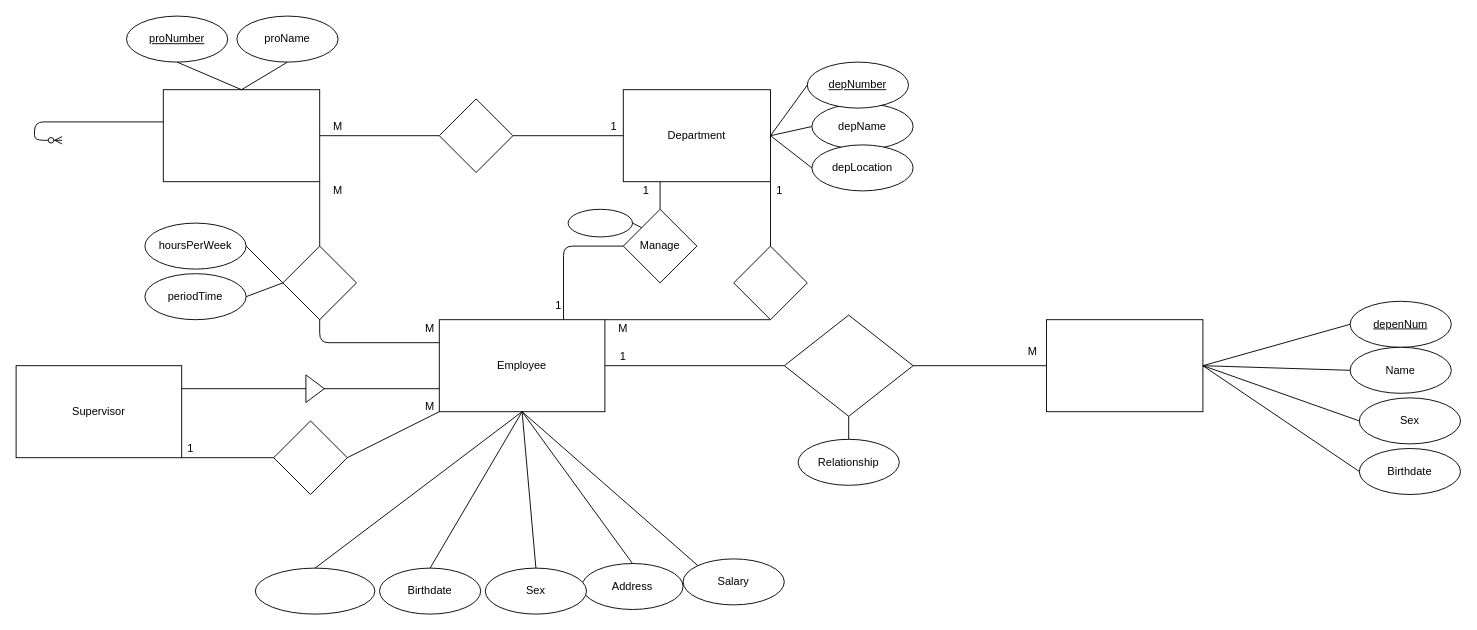
The diagram is 1477 pixels wide and 630 high, and some of its shapes have lost their labels. The shapes that lost their labels are listed below. From the top down, each one's box as (x1, y1, x2, y2) in pixels, then its label:
(162, 89, 320, 182): Project
(438, 98, 513, 172): Controls
(567, 208, 632, 237): startDate
(282, 245, 356, 320): Do
(733, 245, 807, 320): Work at
(783, 314, 913, 416): Dependent on
(1046, 319, 1203, 412): Dependent
(273, 420, 347, 494): supervise
(254, 567, 375, 614): empSecurityNumber
